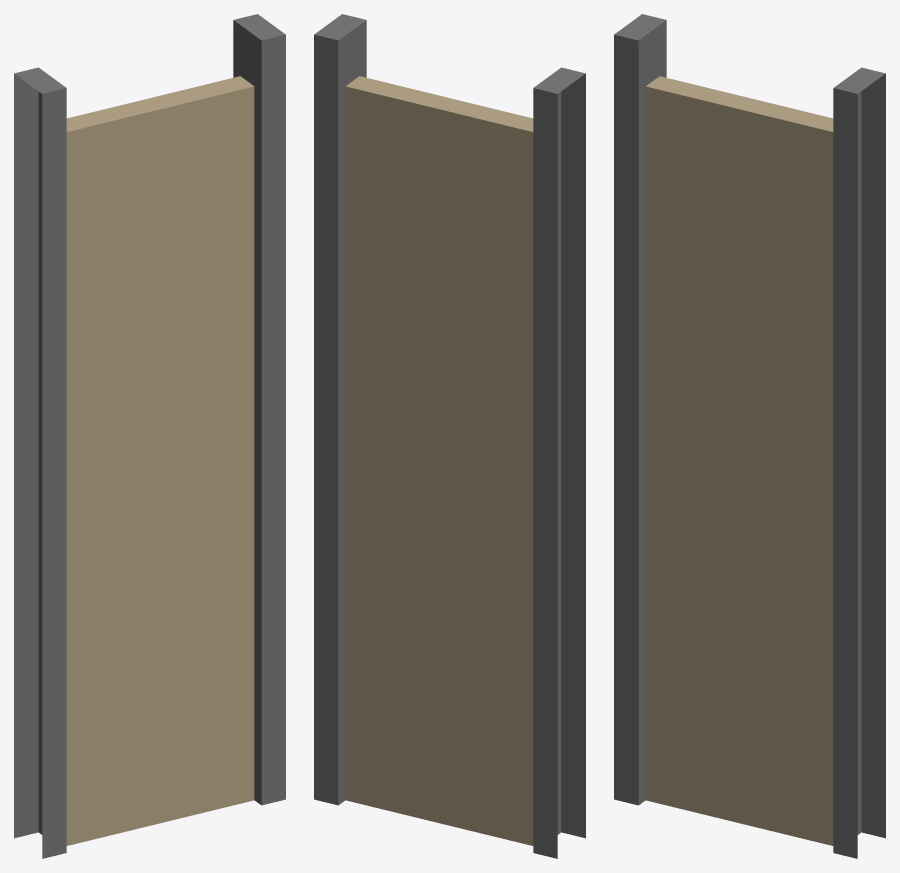
Rendered from SM_Fence_100.fbx.
3 views of the same model, side by side, from view 1: azimuth 30°, elevation 25°; view 2: azimuth 150°, elevation 25°; view 3: azimuth 330°, elevation 25° (orthographic).
Visible parts, largest first — view 1: SM_Fence_100; view 2: SM_Fence_100; view 3: SM_Fence_100.
Part boxes in pixels (<box>): SM_Fence_100: <box>14,14,285,858</box>; SM_Fence_100: <box>314,14,585,858</box>; SM_Fence_100: <box>614,14,885,858</box>.
Bounding box in the file's own units: 100 × 300 × 20.
